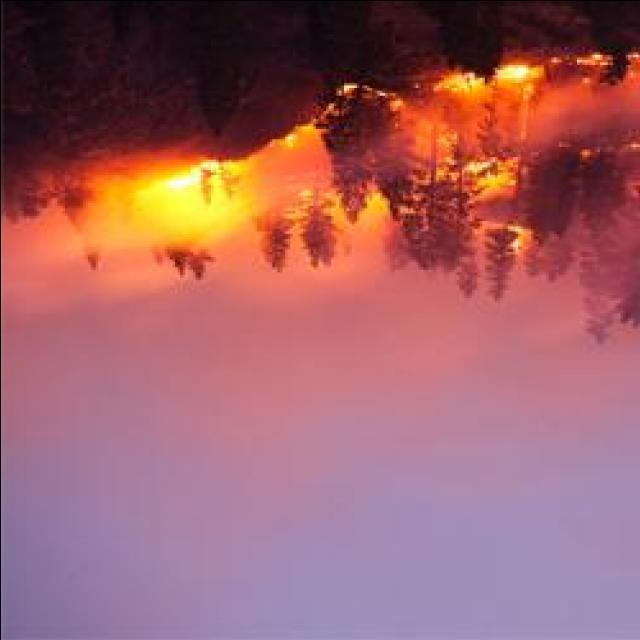fire: (162, 160, 216, 191), (484, 59, 536, 82)
smoke: (107, 193, 248, 235), (448, 89, 570, 129)
